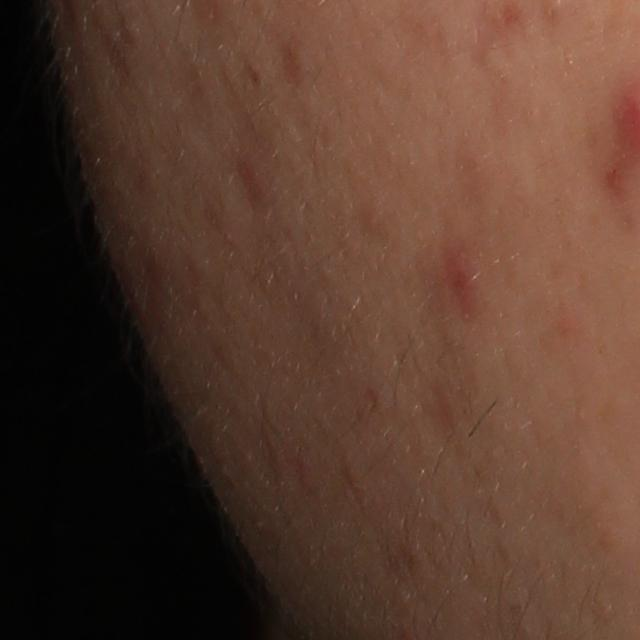papule: (441, 251, 479, 320)
